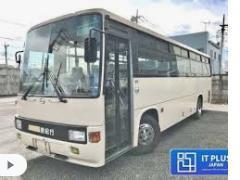bus: (15, 7, 211, 166)
